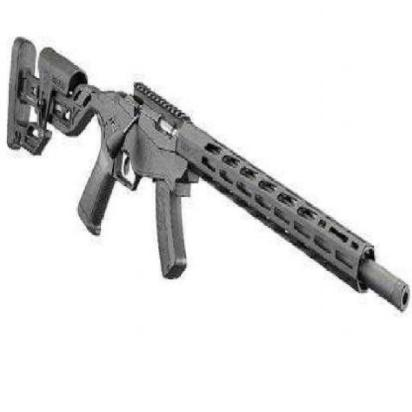Gun: (10, 40, 407, 310)
